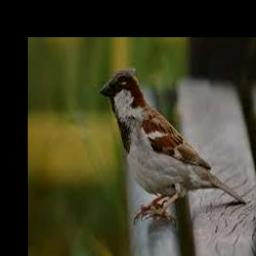Sparrow: (100, 69, 247, 225)
